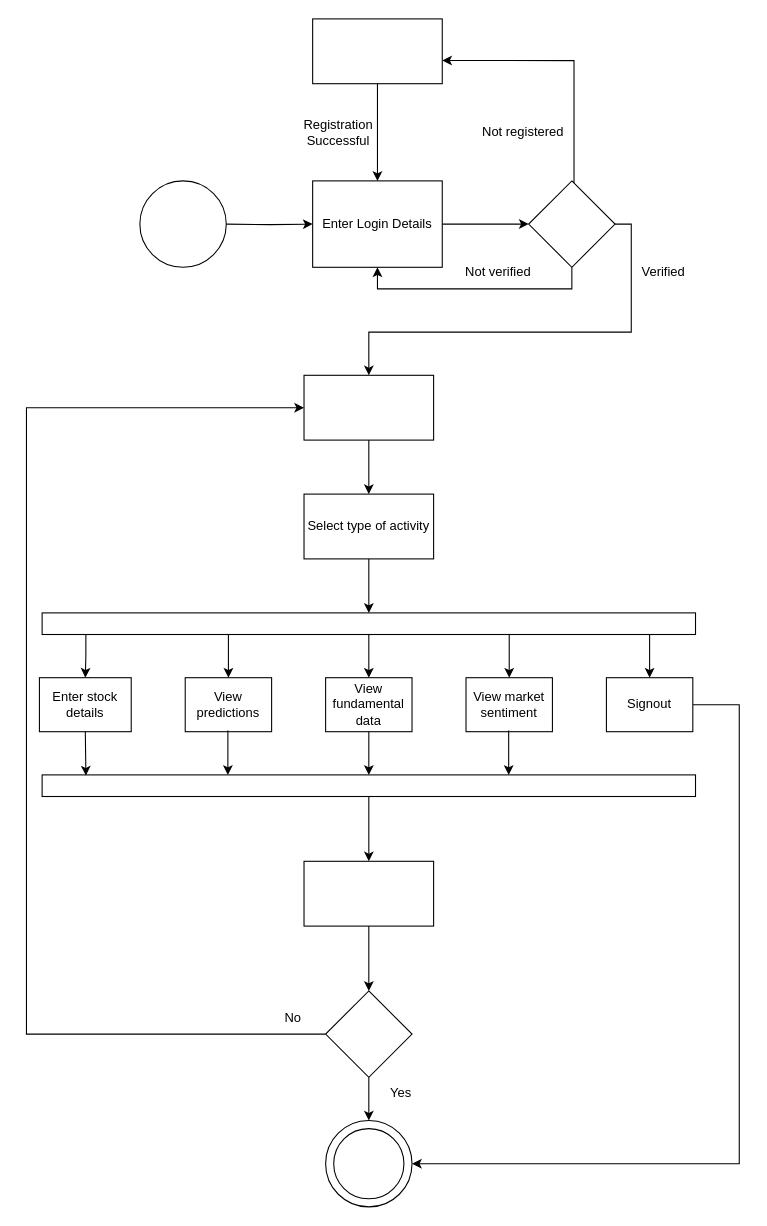
The diagram is 767 pixels wide and 1226 high, and some of its shapes have lost their labels. Each missing label, with the centre of its shape:
"Display Homepage" goes at point 368,407.
"Logout" goes at point 368,893.
"Start" goes at point 182,223.
"User registration process" goes at point 377,51.
